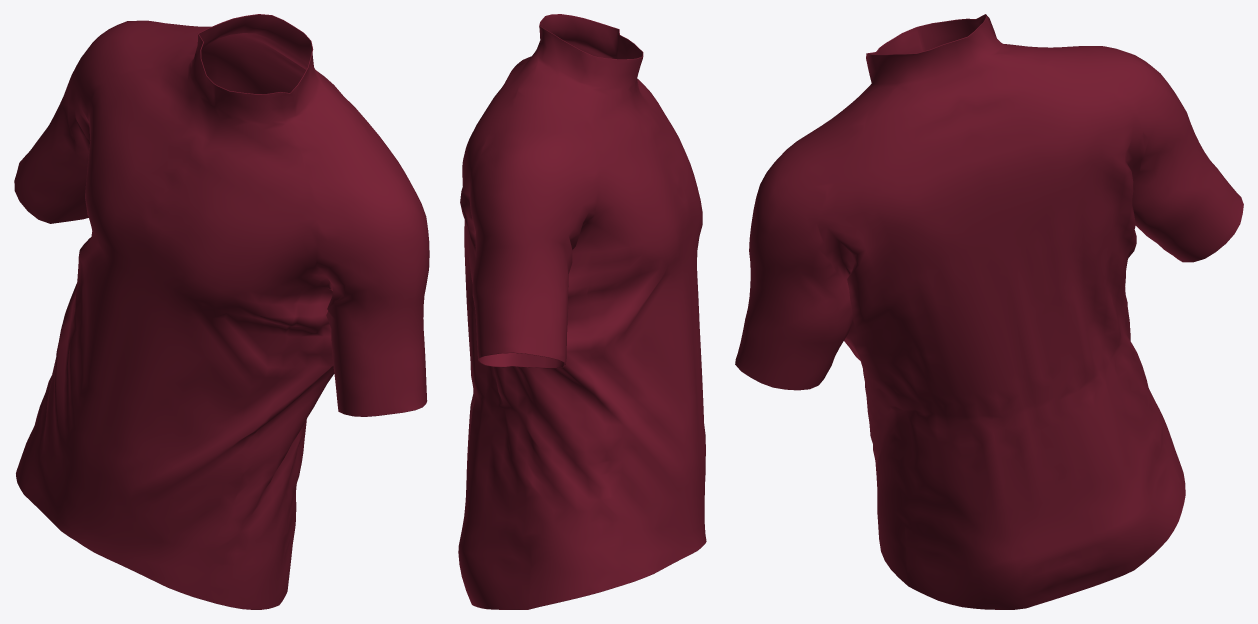
File: shirt.dae
3 renders of one model, left to right at view 1: azimuth 30°, elevation 25°; view 2: azimuth 150°, elevation 25°; view 3: azimuth 270°, elevation 25°, orthographic. The views are drawn at different scales.
Visible parts, largest first — view 1: Merged_Meshes; view 2: Merged_Meshes; view 3: Merged_Meshes.
Boxes of the visible parts, bbox=[...] form: Merged_Meshes: bbox=[14, 14, 429, 609]; Merged_Meshes: bbox=[458, 14, 706, 609]; Merged_Meshes: bbox=[735, 14, 1243, 609].
Size of the model in its own units: 35.71 by 72.66 by 59.2.
